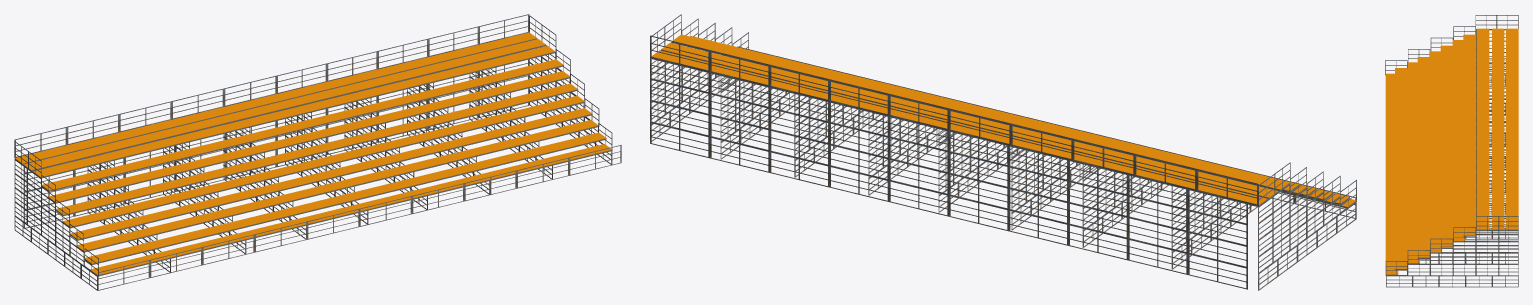
File: Tribune_1.fbx
3 views of the same model, side by side, from view 1: azimuth 30°, elevation 25°; view 2: azimuth 150°, elevation 25°; view 3: azimuth 270°, elevation 25° (orthographic). The views are drawn at different scales.
Parts seen in each view (by area): view 1: Tribune_1; view 2: Tribune_1; view 3: Tribune_1.
Boxes of the visible parts, x1,y1,x2,y2 form: Tribune_1: (14,14,621,290); Tribune_1: (650,14,1356,290); Tribune_1: (1385,15,1518,287).
Bounding box in the file's own units: 1127 × 188 × 312.
